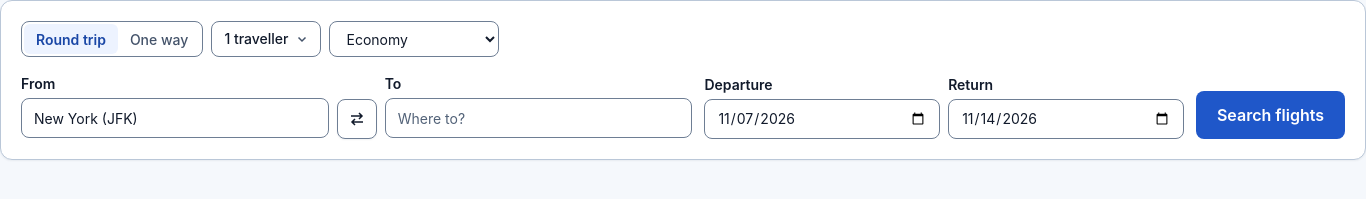
it: FlightSearchForm › flags an unknown airport once you leave the field
Type "Atlantis" into the field labelled "To". click: (539, 118)
box: [385, 98, 692, 138]
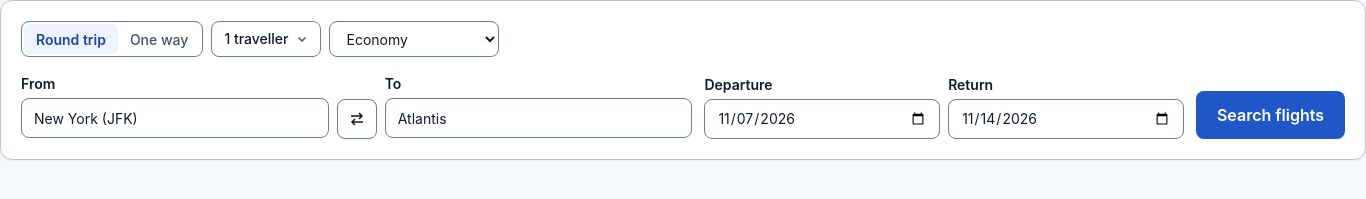
Leave the field labelled "To", box [385, 98, 692, 138]
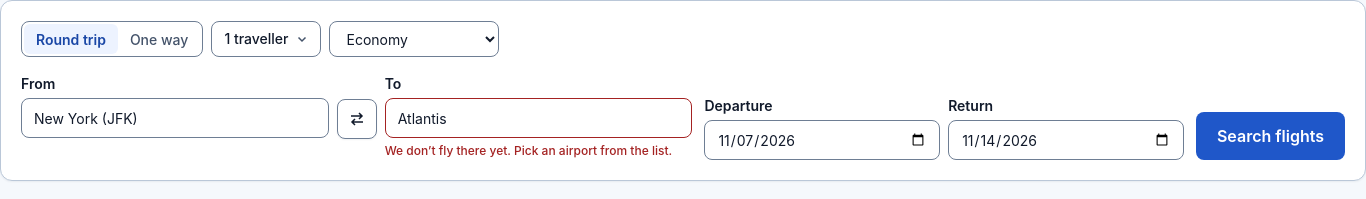
Expected: the text "We don’t fly there yet" is shown, [385, 143, 672, 158]
